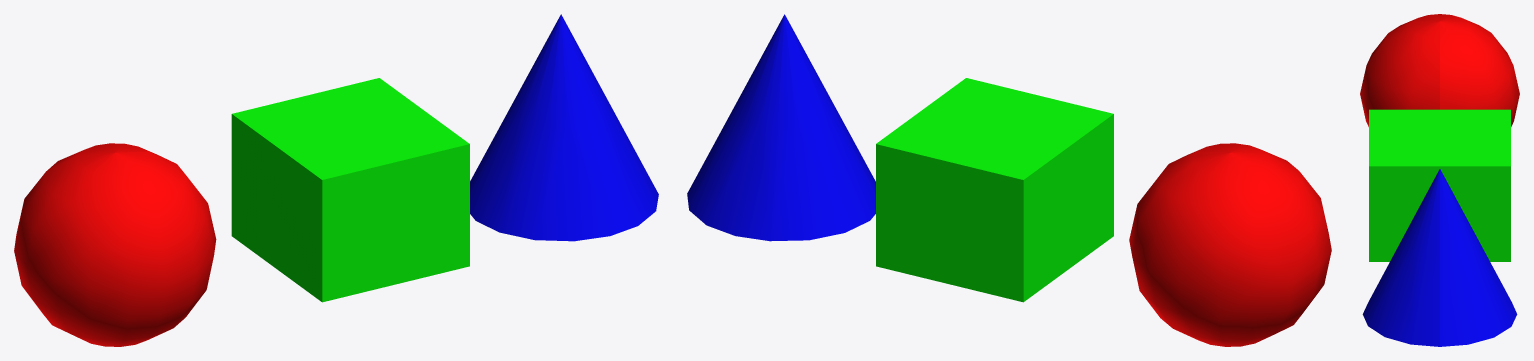
The model's file is testModel.gltf.
3 renders of one model, left to right at view 1: azimuth 30°, elevation 25°; view 2: azimuth 150°, elevation 25°; view 3: azimuth 270°, elevation 25°, orthographic. The views are drawn at different scales.
Parts seen in each view (by area): view 1: Cube, Sphere, Cone; view 2: Cube, Sphere, Cone; view 3: Cube, Cone, Sphere.
Boxes of the visible parts, x1,y1,x2,y2 form: Cube: [231, 78, 469, 302]; Sphere: [14, 143, 216, 346]; Cone: [470, 14, 658, 241]; Cube: [876, 78, 1113, 302]; Sphere: [1129, 143, 1331, 346]; Cone: [687, 14, 875, 241]; Cube: [1369, 109, 1510, 261]; Cone: [1362, 169, 1517, 346]; Sphere: [1360, 14, 1519, 126].
Bounding box in the file's own units: 0.141 × 0.0467 × 0.0402.
